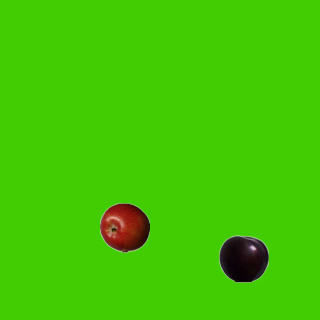Apple Braeburn: (99, 202, 149, 252)
Cherry Wax Black: (218, 233, 268, 283)
